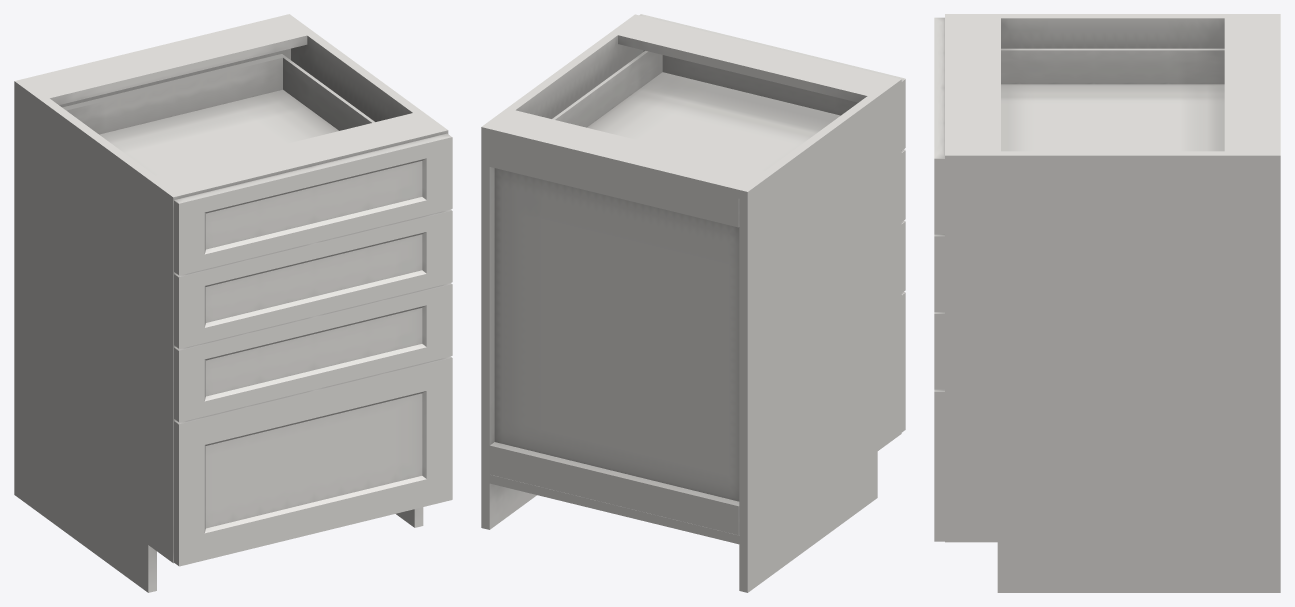
File: 4-drawer-bank-3-1-base-doors-on.glb
The picture shows the model from 3 angles, left to right: view 1: azimuth 30°, elevation 25°; view 2: azimuth 150°, elevation 25°; view 3: azimuth 270°, elevation 25°; orthographic projection. The views are drawn at different scales.
Parts seen in each view (by area): view 1: part_32, part_0, part_6; view 2: part_0, part_6, part_32; view 3: part_0, part_6, part_32.
Part boxes in pixels (bbox=[...]): part_32: bbox=[174, 133, 452, 566]; part_0: bbox=[14, 14, 448, 592]; part_6: bbox=[62, 54, 374, 175]; part_0: bbox=[481, 14, 901, 592]; part_6: bbox=[552, 51, 840, 170]; part_32: bbox=[639, 14, 905, 432]; part_0: bbox=[945, 14, 1280, 592]; part_6: bbox=[1001, 48, 1224, 151]; part_32: bbox=[934, 17, 944, 541].
Bounding box in the file's own units: 0.6096 × 0.8763 × 0.6286.
Materials: 3 (2 with a texture image).
